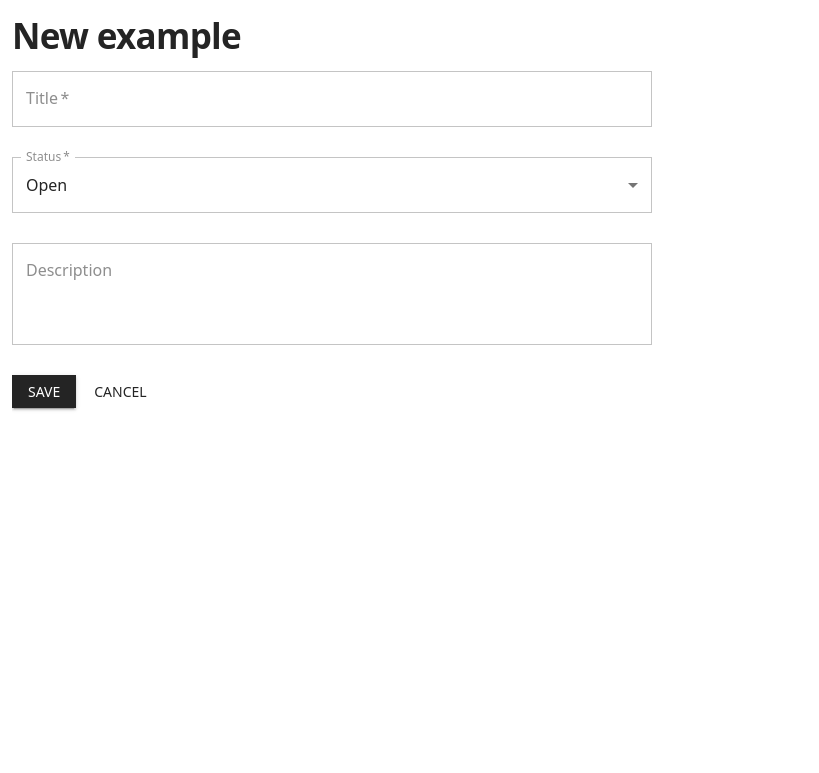
ExampleFormPage › creates an example and goes to its detail page
The image size is (819, 773).
Type "A new example" into the field labelled "Title *".
click(332, 99); type("A new example")  # box [12,71,652,127]
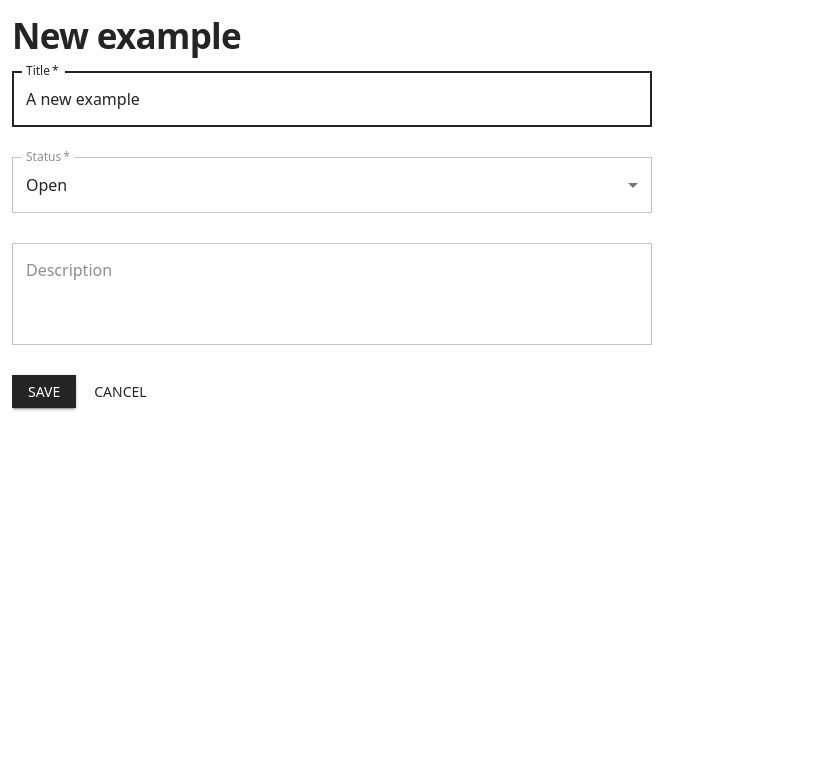
Select "Closed" in the dropdown labelled "Status *" at coordinates (332, 185), box [12,157,652,213]
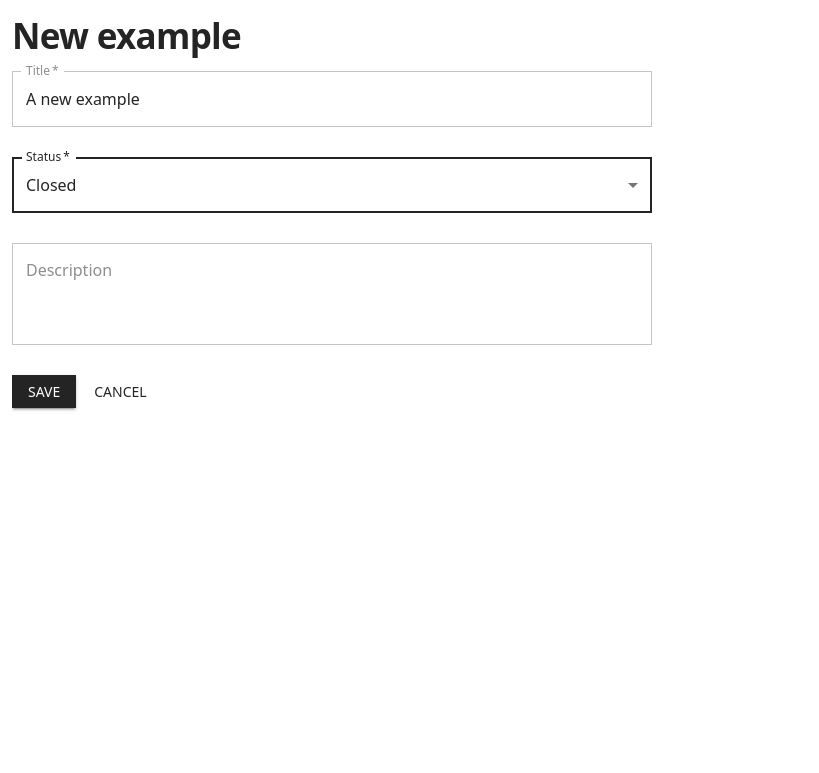
Click the button "Save".
click(44, 392)  # box [12,375,76,408]
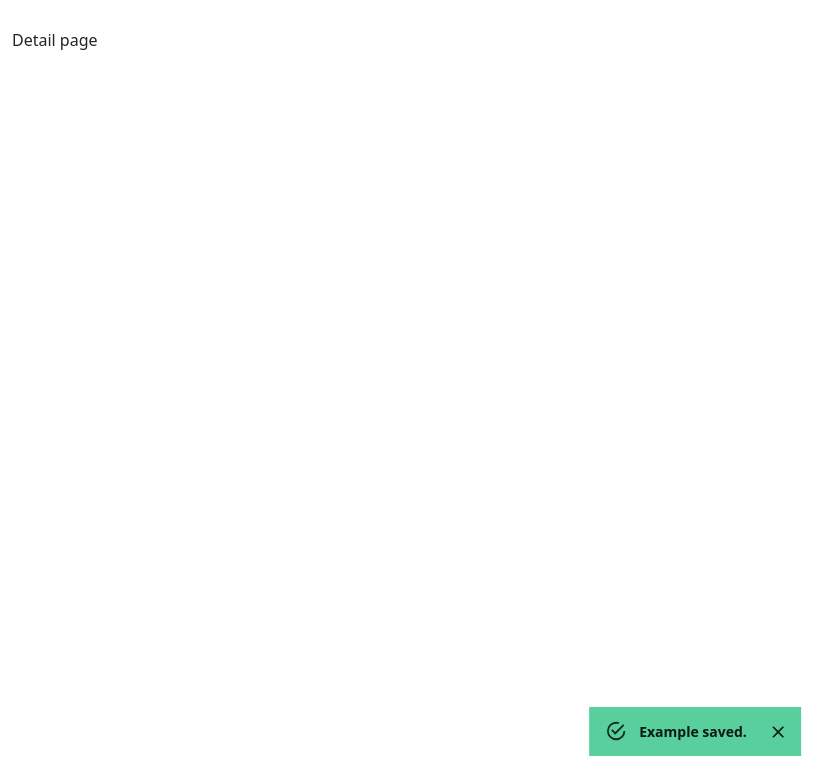
Expected: the text "Detail page" is shown, [12,29,98,51]
Expected: the text "Example saved." is shown, [639,722,747,741]
